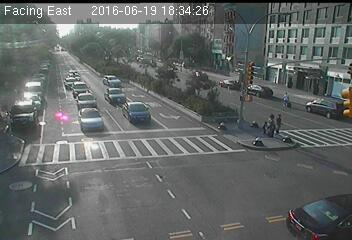neg: (26, 106, 59, 150), (160, 168, 191, 210), (175, 66, 205, 105), (233, 191, 262, 230), (83, 110, 107, 142), (309, 81, 333, 112), (38, 186, 62, 217), (294, 22, 316, 51), (135, 41, 156, 68), (115, 168, 135, 195), (53, 36, 72, 62), (89, 195, 108, 221), (286, 159, 305, 184), (132, 98, 150, 121), (220, 116, 237, 139), (245, 60, 262, 83), (95, 66, 110, 87), (72, 80, 87, 100)
pos: (261, 112, 278, 134), (278, 112, 290, 129), (282, 88, 294, 105)
